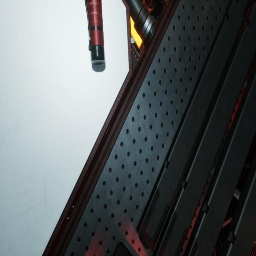FireExtinguisher ]: (84, 0, 105, 65)
